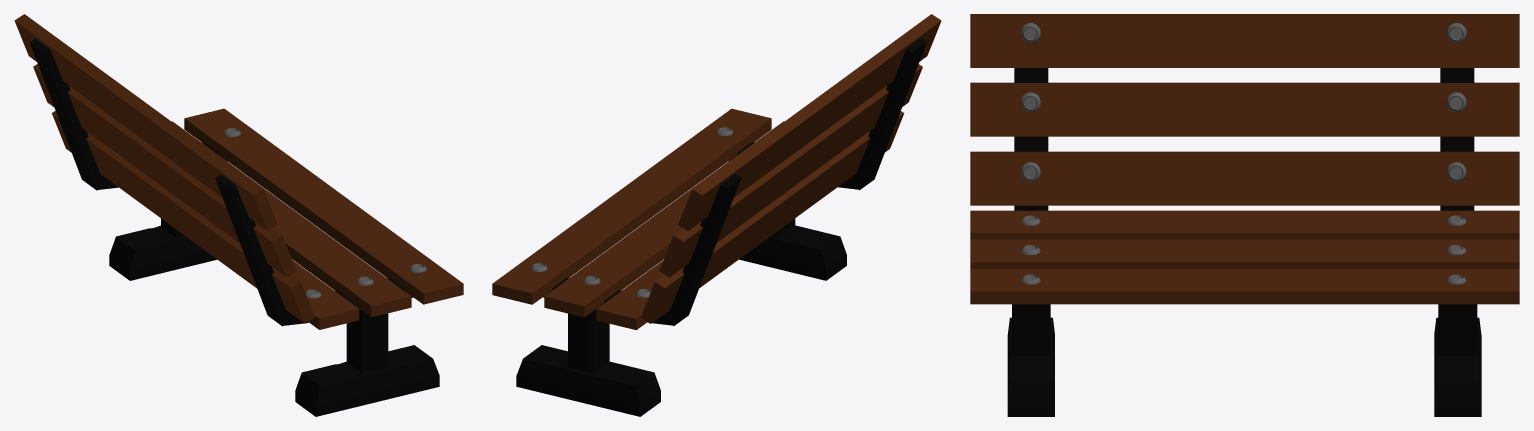
File: lawkazserialuranczo.fbx
The picture shows the model from 3 angles, left to right: view 1: azimuth 30°, elevation 25°; view 2: azimuth 150°, elevation 25°; view 3: azimuth 270°, elevation 25°; orthographic projection. The views are drawn at different scales.
Parts seen in each view (by area): view 1: Kostka.001, Kostka, Kostka.006, Kostka.007, Kostka.003, Kostka.005; view 2: Kostka.001, Kostka, Kostka.007, Kostka.006, Kostka.003, Kostka.005; view 3: Kostka.001, Kostka, Kostka.007, Kostka.006, Kostka.003, Kostka.005.
Part boxes in pixels (x1,y1,x2,y2): Kostka.001: [14, 14, 314, 323]; Kostka: [171, 108, 463, 329]; Kostka.006: [295, 310, 439, 416]; Kostka.007: [109, 218, 216, 280]; Kostka.003: [215, 174, 292, 326]; Kostka.005: [29, 38, 106, 190]; Kostka.001: [640, 14, 941, 323]; Kostka: [492, 108, 784, 330]; Kostka.007: [516, 310, 660, 416]; Kostka.006: [739, 218, 846, 280]; Kostka.003: [851, 38, 926, 190]; Kostka.005: [666, 174, 741, 325]; Kostka.001: [970, 14, 1519, 205]; Kostka: [970, 210, 1519, 304]; Kostka.007: [1434, 304, 1481, 416]; Kostka.006: [1007, 304, 1054, 416]; Kostka.003: [1014, 68, 1048, 210]; Kostka.005: [1440, 68, 1474, 210].
Bounding box in the file's own units: 314 × 359 × 606.
